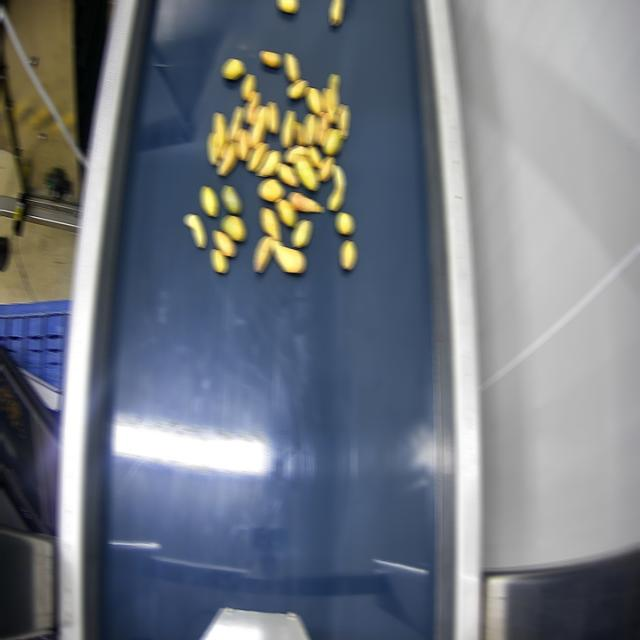Baby Potato: (271, 240, 304, 272), (293, 155, 318, 191), (248, 105, 267, 148), (328, 165, 343, 210), (288, 192, 321, 212), (185, 214, 204, 247), (218, 142, 237, 175), (254, 236, 271, 272), (257, 150, 280, 176), (221, 215, 244, 241), (213, 112, 226, 158), (258, 178, 283, 201), (260, 209, 279, 239), (213, 230, 234, 256), (276, 199, 295, 227), (248, 143, 267, 171), (200, 185, 217, 216), (244, 90, 259, 125), (227, 106, 242, 141), (322, 128, 341, 155), (222, 185, 239, 215), (315, 112, 330, 146), (281, 110, 294, 149), (277, 163, 298, 187), (292, 220, 309, 247), (322, 88, 335, 123), (222, 58, 243, 79), (307, 87, 322, 116), (237, 128, 250, 161), (284, 145, 307, 163), (304, 114, 317, 145), (341, 240, 354, 270), (284, 53, 297, 82), (318, 156, 333, 181), (336, 104, 347, 138), (207, 132, 218, 166), (241, 73, 254, 101), (287, 80, 306, 99), (306, 144, 321, 168), (329, 73, 338, 113), (211, 249, 226, 273), (266, 101, 277, 133), (261, 50, 280, 68), (337, 212, 352, 234), (292, 120, 305, 144), (332, 164, 343, 191), (330, 0, 341, 26), (277, 0, 296, 13)
